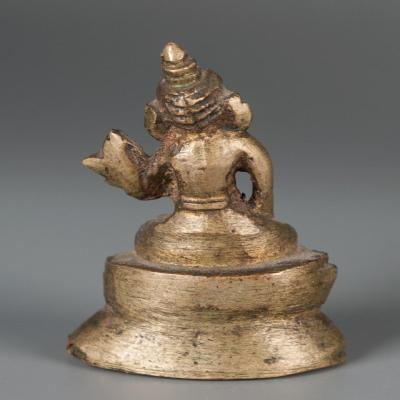sculpture: (69, 42, 347, 380)
